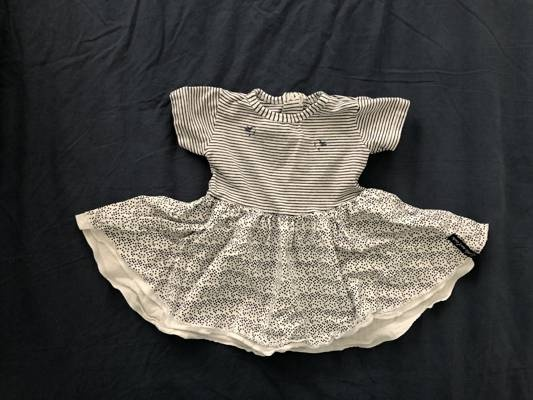Dress: (43, 25, 498, 355)
